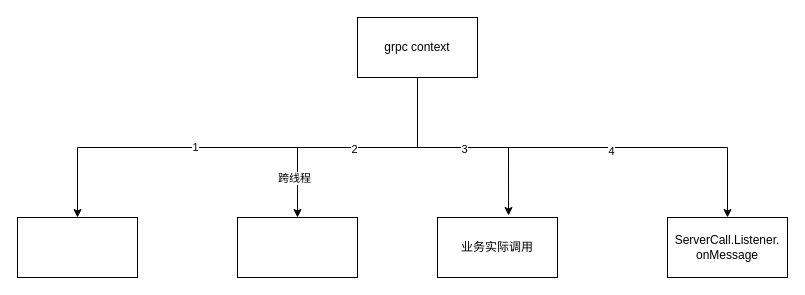
Image size: 805x295. Some labels were removed from this diagram. Here are the shapes that lost their labels. From the top down, the centre of each, then its label:
[77,247]: ServerInterceptor. interceptCall
[297,247]: ServerCall. sendMessage
